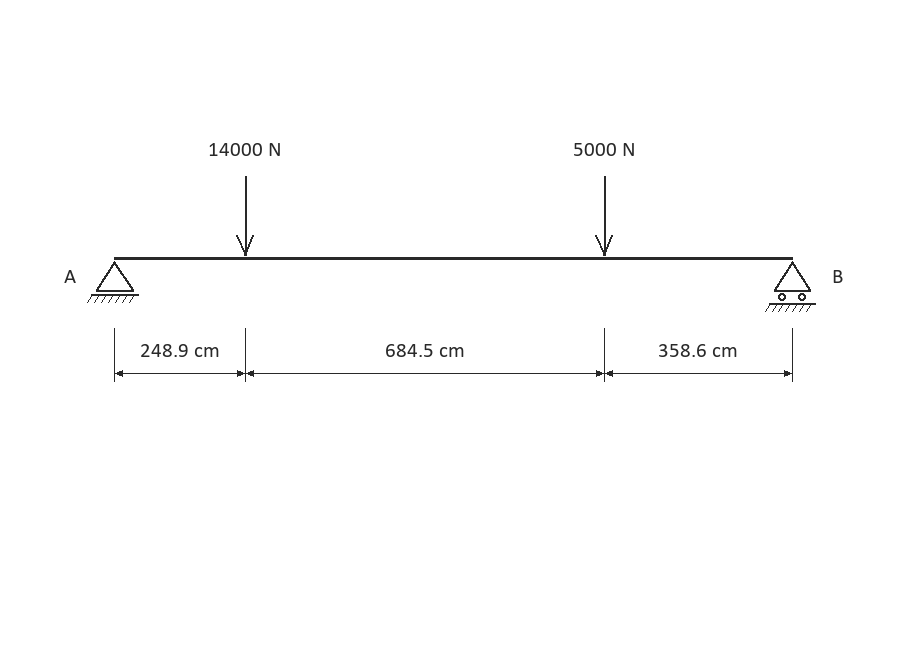pin_support: (87, 261, 139, 303)
point_load: (236, 176, 254, 256), (595, 176, 613, 256)
roller_support: (765, 261, 816, 312)
